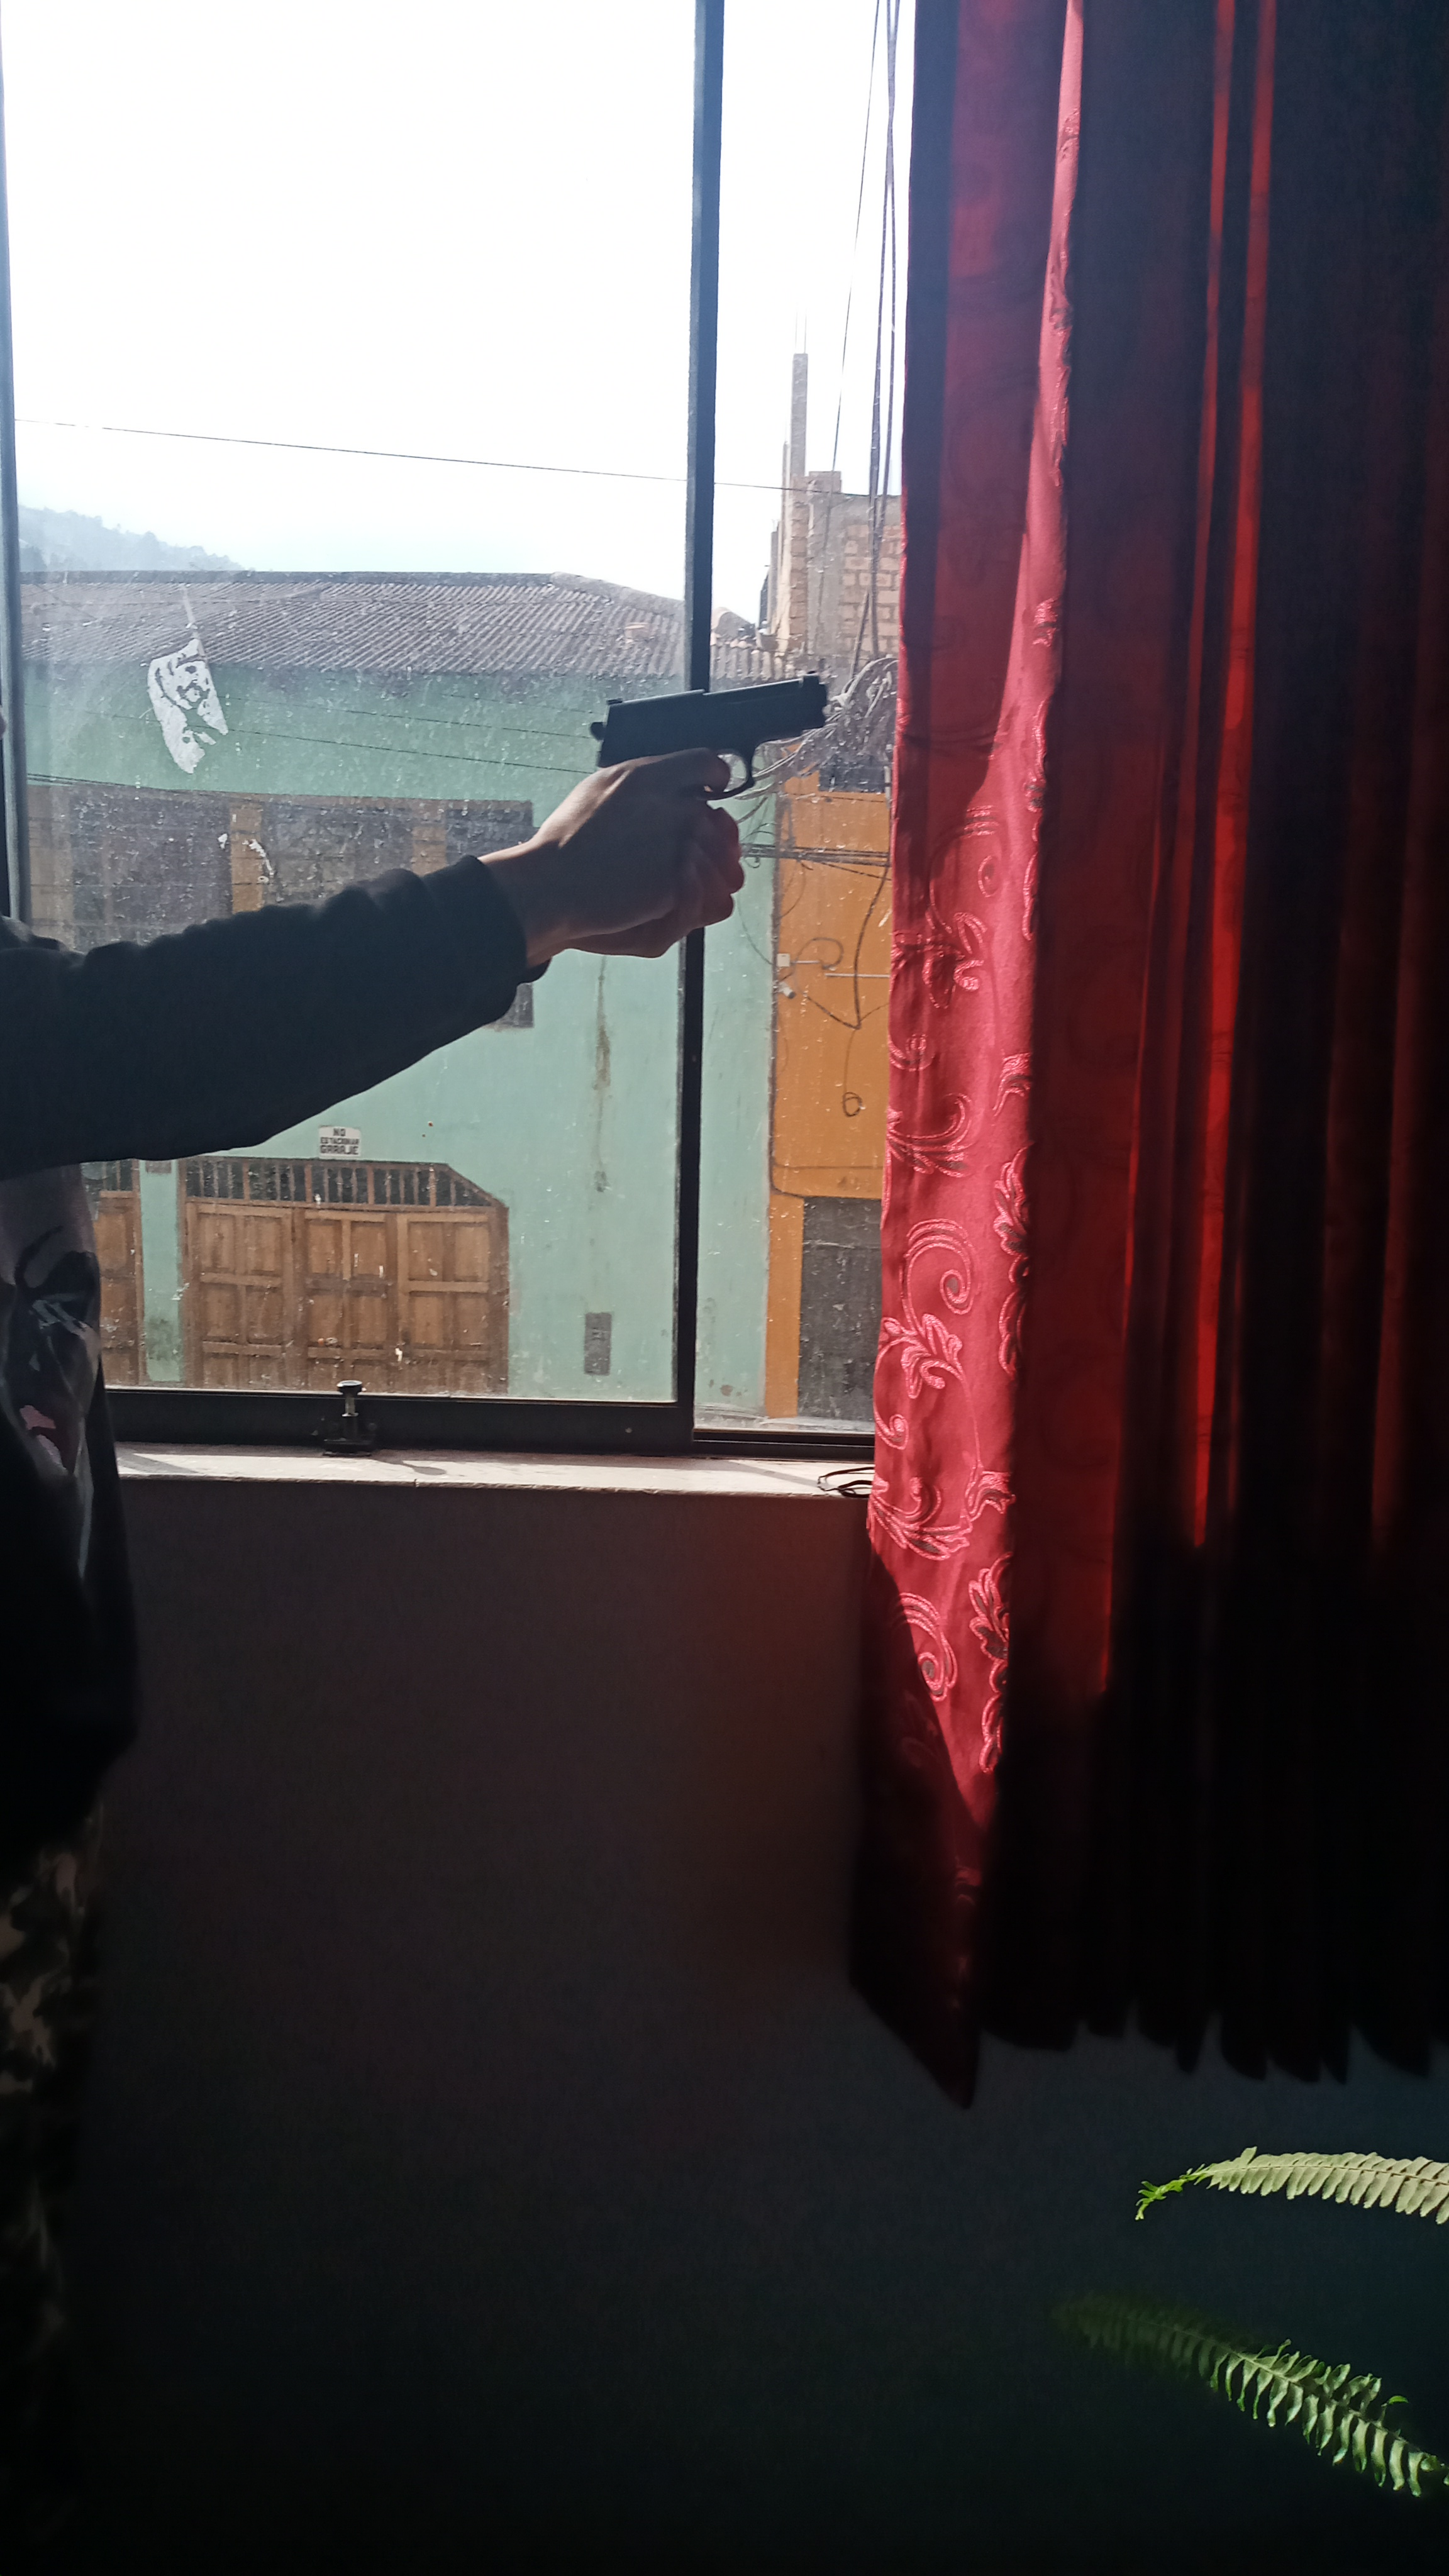Arma: (593, 679, 853, 789)
